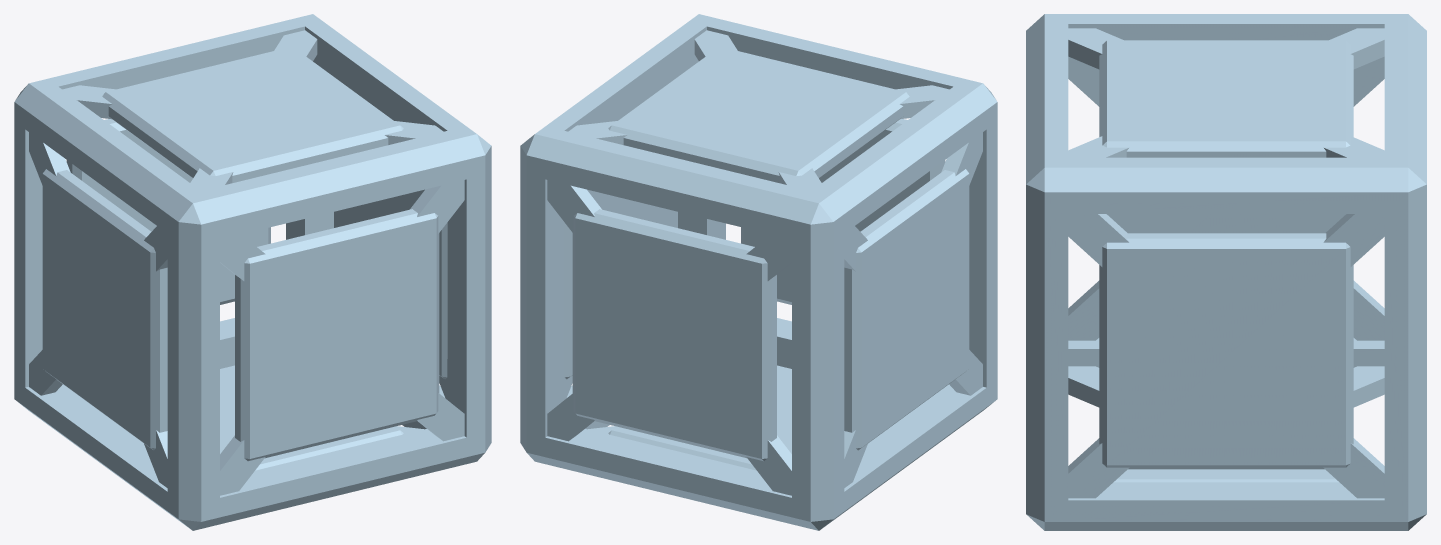
File: R4B_TrussCube_LOD1.glb
3 renders of one model, left to right at view 1: azimuth 30°, elevation 25°; view 2: azimuth 150°, elevation 25°; view 3: azimuth 270°, elevation 25°, orthographic. The views are drawn at different scales.
Parts seen in each view (by area): view 1: R4B_TrussCube_LOD1; view 2: R4B_TrussCube_LOD1; view 3: R4B_TrussCube_LOD1.
Part boxes in pixels (x1,y1,x2,y2): R4B_TrussCube_LOD1: (14, 14, 491, 530); R4B_TrussCube_LOD1: (520, 14, 997, 530); R4B_TrussCube_LOD1: (1026, 14, 1426, 530).
Bounding box in the file's own units: 0.52 × 0.52 × 0.52.
